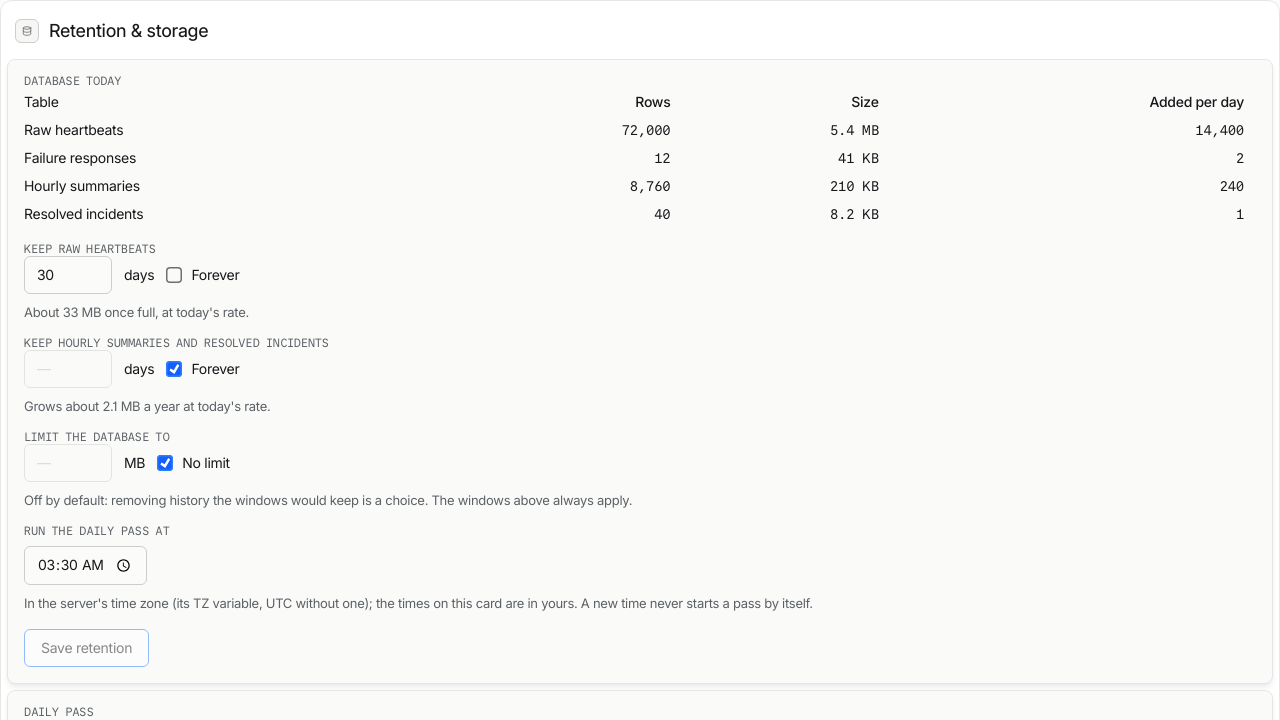
Test case: reports a save the server could not read back as saved
Step 1. Replace the text in the number field named "Keep raw heartbeats, in days" with "60" → (68, 275), box [24,256,112,294]
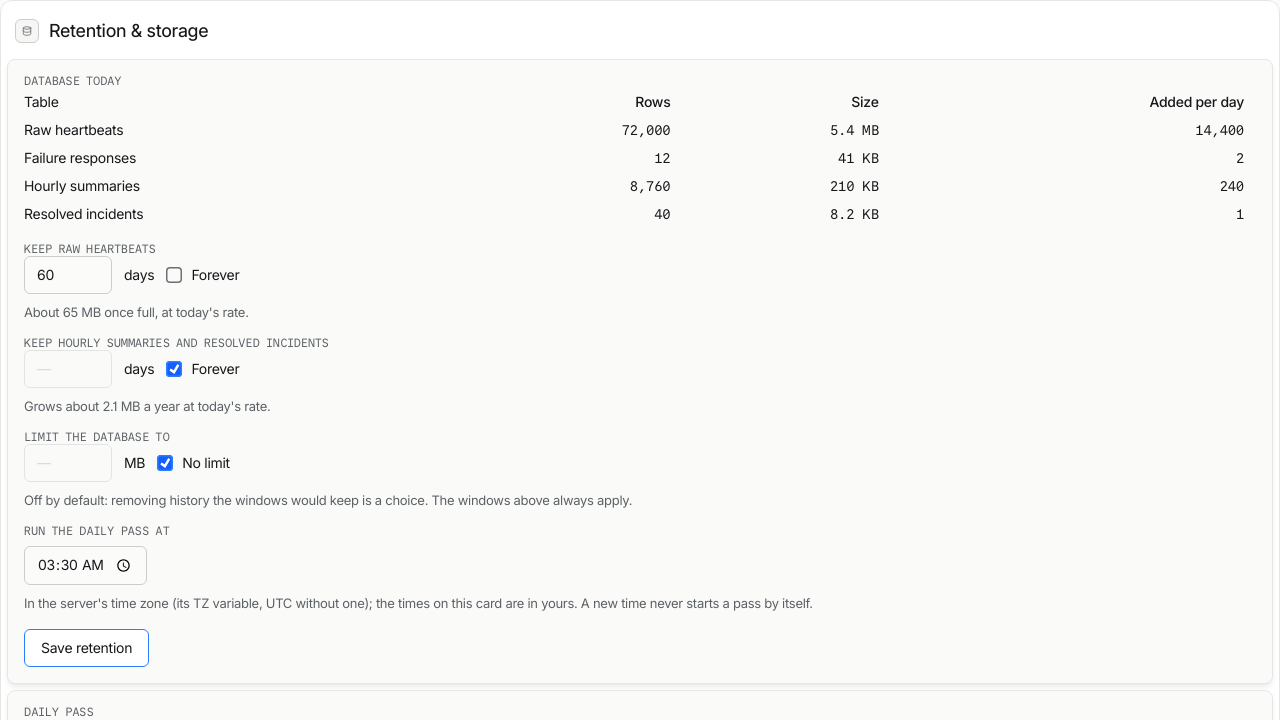
Step 2. Click the button "Save retention" → (87, 648), box [24,629,149,667]
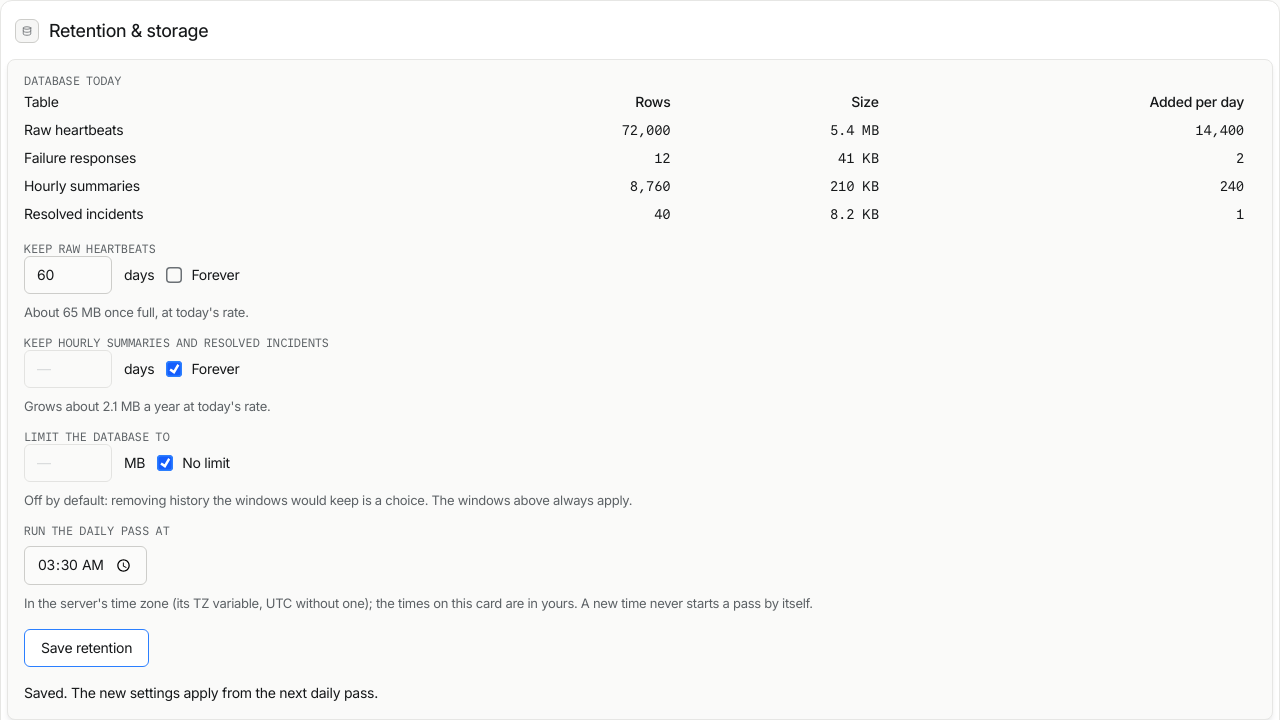
Result: the text "Saved. The new settings apply from the next daily pass." is shown at [24,684,378,701]
